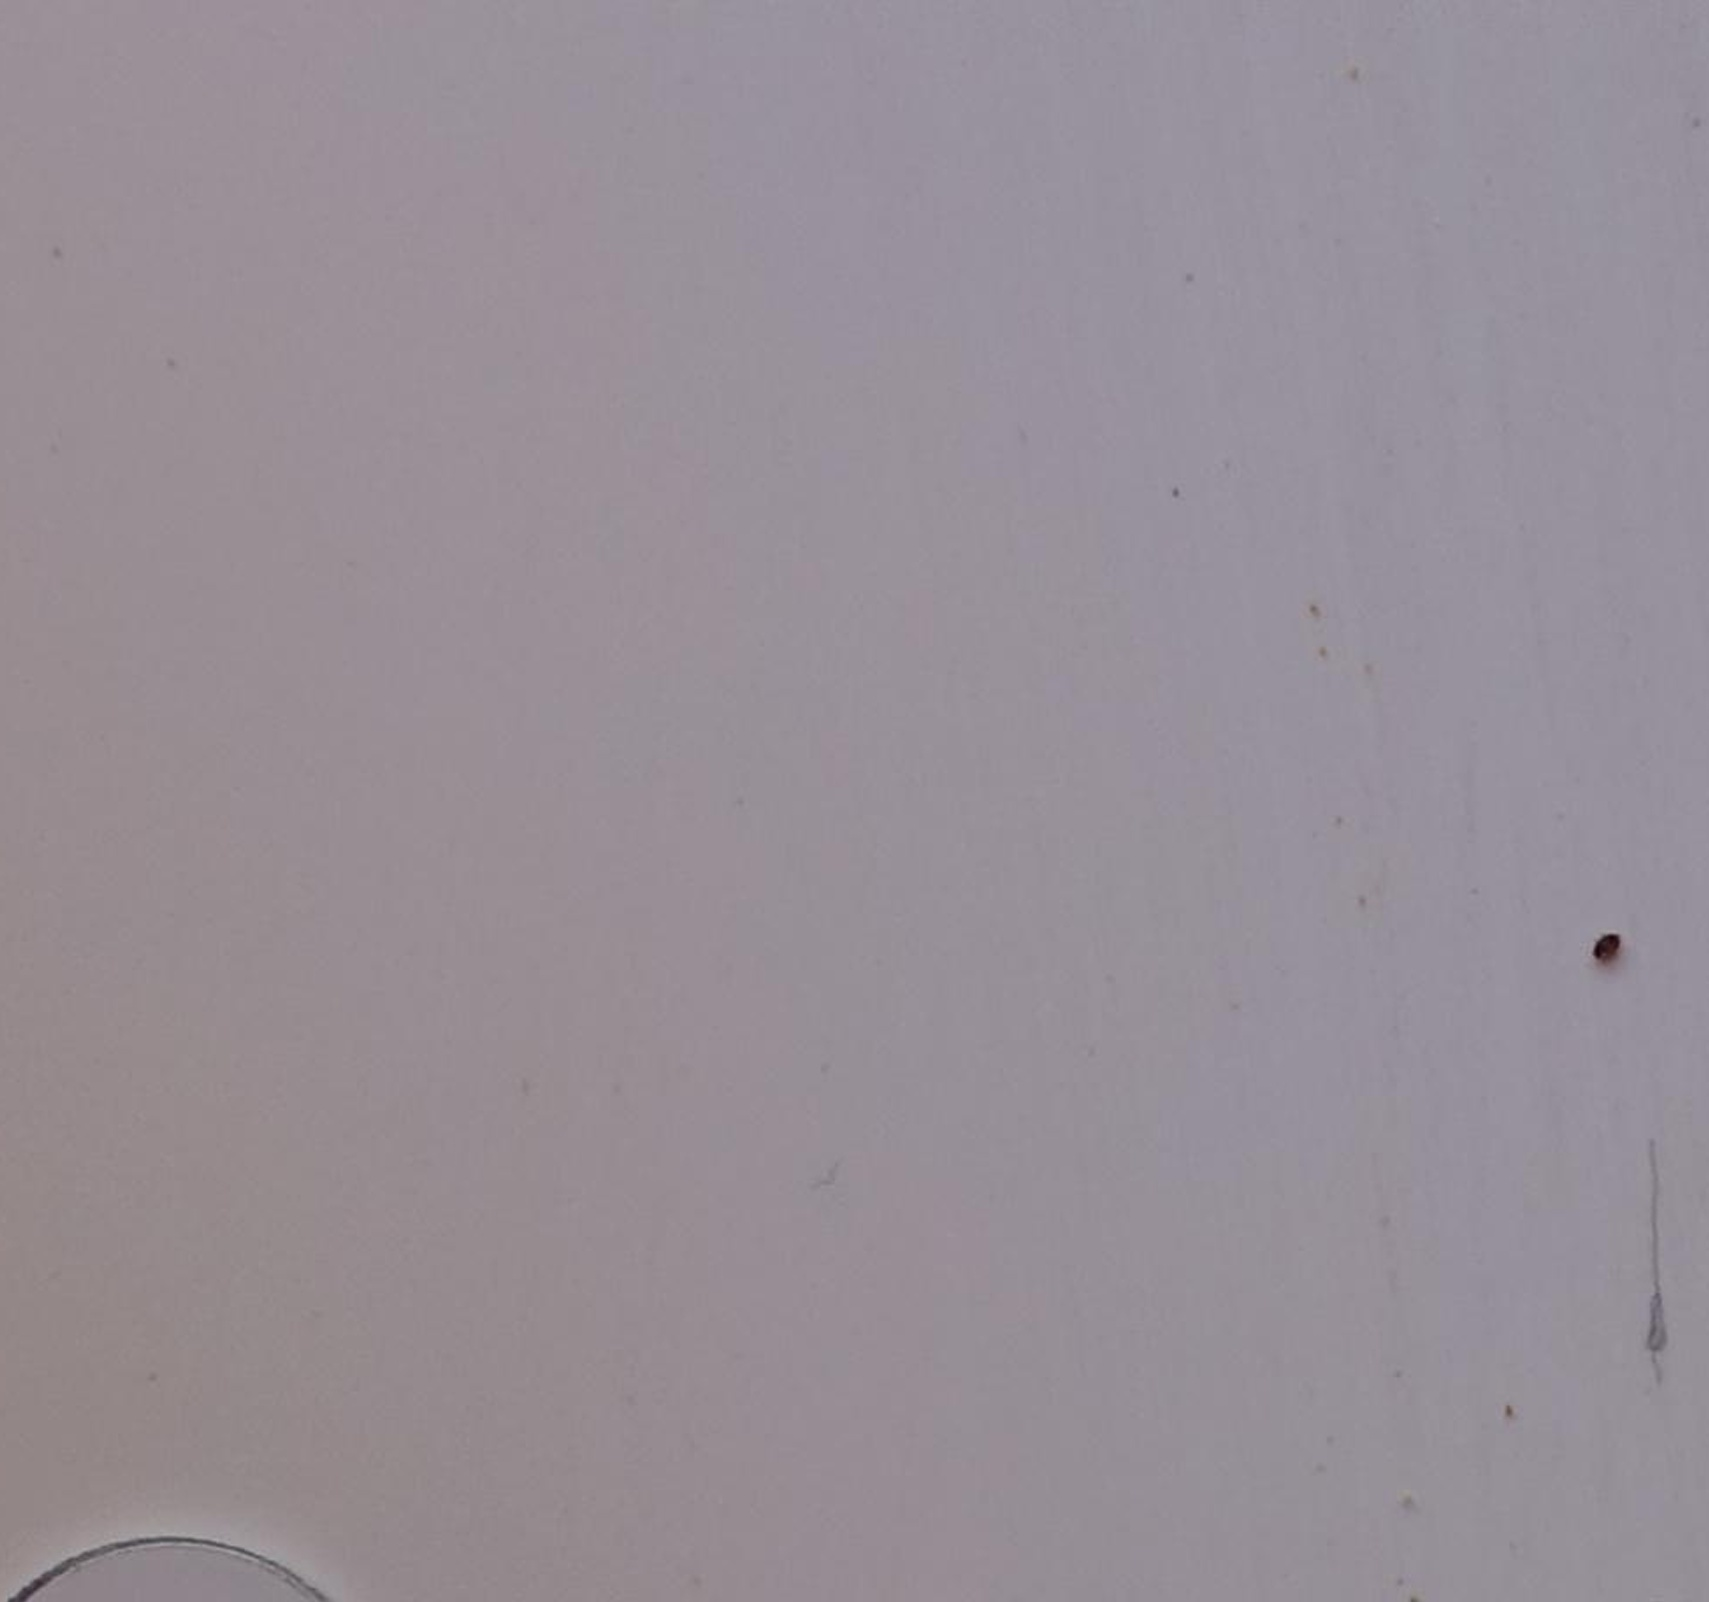Varroa: (1589, 938, 1614, 965)
